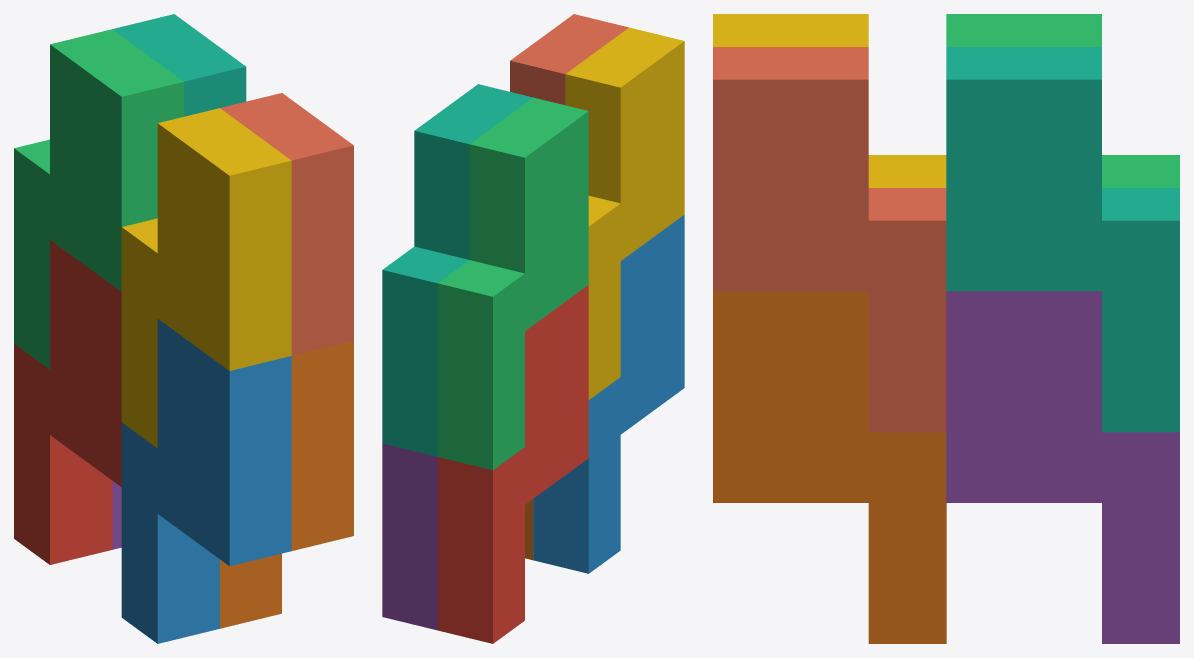
File: tiling.obj
The picture shows the model from 3 angles, left to right: view 1: azimuth 30°, elevation 25°; view 2: azimuth 150°, elevation 25°; view 3: azimuth 270°, elevation 25°; orthographic projection. The views are drawn at different scales.
Parts seen in each view (by area): view 1: copy_1_domain_2, copy_1_domain_4, copy_1_domain_3, copy_1_domain_1, copy_1_domain_8, copy_1_domain_6, copy_1_domain_7, copy_1_domain_5; view 2: copy_1_domain_3, copy_1_domain_1, copy_1_domain_4, copy_1_domain_2, copy_1_domain_7, copy_1_domain_5, copy_1_domain_8, copy_1_domain_6; view 3: copy_1_domain_8, copy_1_domain_7, copy_1_domain_6, copy_1_domain_5, copy_1_domain_4, copy_1_domain_3.
Part boxes in pixels (x1,y1,x2,y2): copy_1_domain_2: (121, 319, 291, 643); copy_1_domain_4: (121, 108, 291, 448); copy_1_domain_3: (14, 29, 183, 369); copy_1_domain_1: (14, 240, 121, 564); copy_1_domain_8: (220, 93, 353, 355); copy_1_domain_6: (220, 341, 353, 628); copy_1_domain_7: (112, 14, 246, 116); copy_1_domain_5: (112, 481, 121, 549); copy_1_domain_3: (437, 97, 588, 470); copy_1_domain_1: (437, 285, 588, 643); copy_1_domain_4: (565, 27, 684, 399); copy_1_domain_2: (533, 214, 684, 573); copy_1_domain_7: (382, 84, 532, 456); copy_1_domain_5: (382, 443, 437, 630); copy_1_domain_8: (510, 14, 628, 104); copy_1_domain_6: (525, 499, 533, 560); copy_1_domain_8: (713, 47, 946, 432); copy_1_domain_7: (946, 47, 1179, 432); copy_1_domain_6: (713, 291, 946, 643); copy_1_domain_5: (946, 291, 1179, 643); copy_1_domain_4: (713, 14, 946, 187); copy_1_domain_3: (946, 14, 1179, 187).
Bounding box in the file's own units: 2 × 8 × 6.
